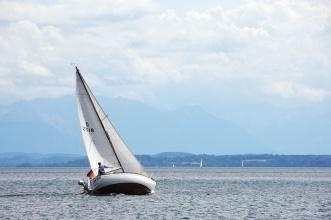fanchuan: (66, 64, 164, 192)
